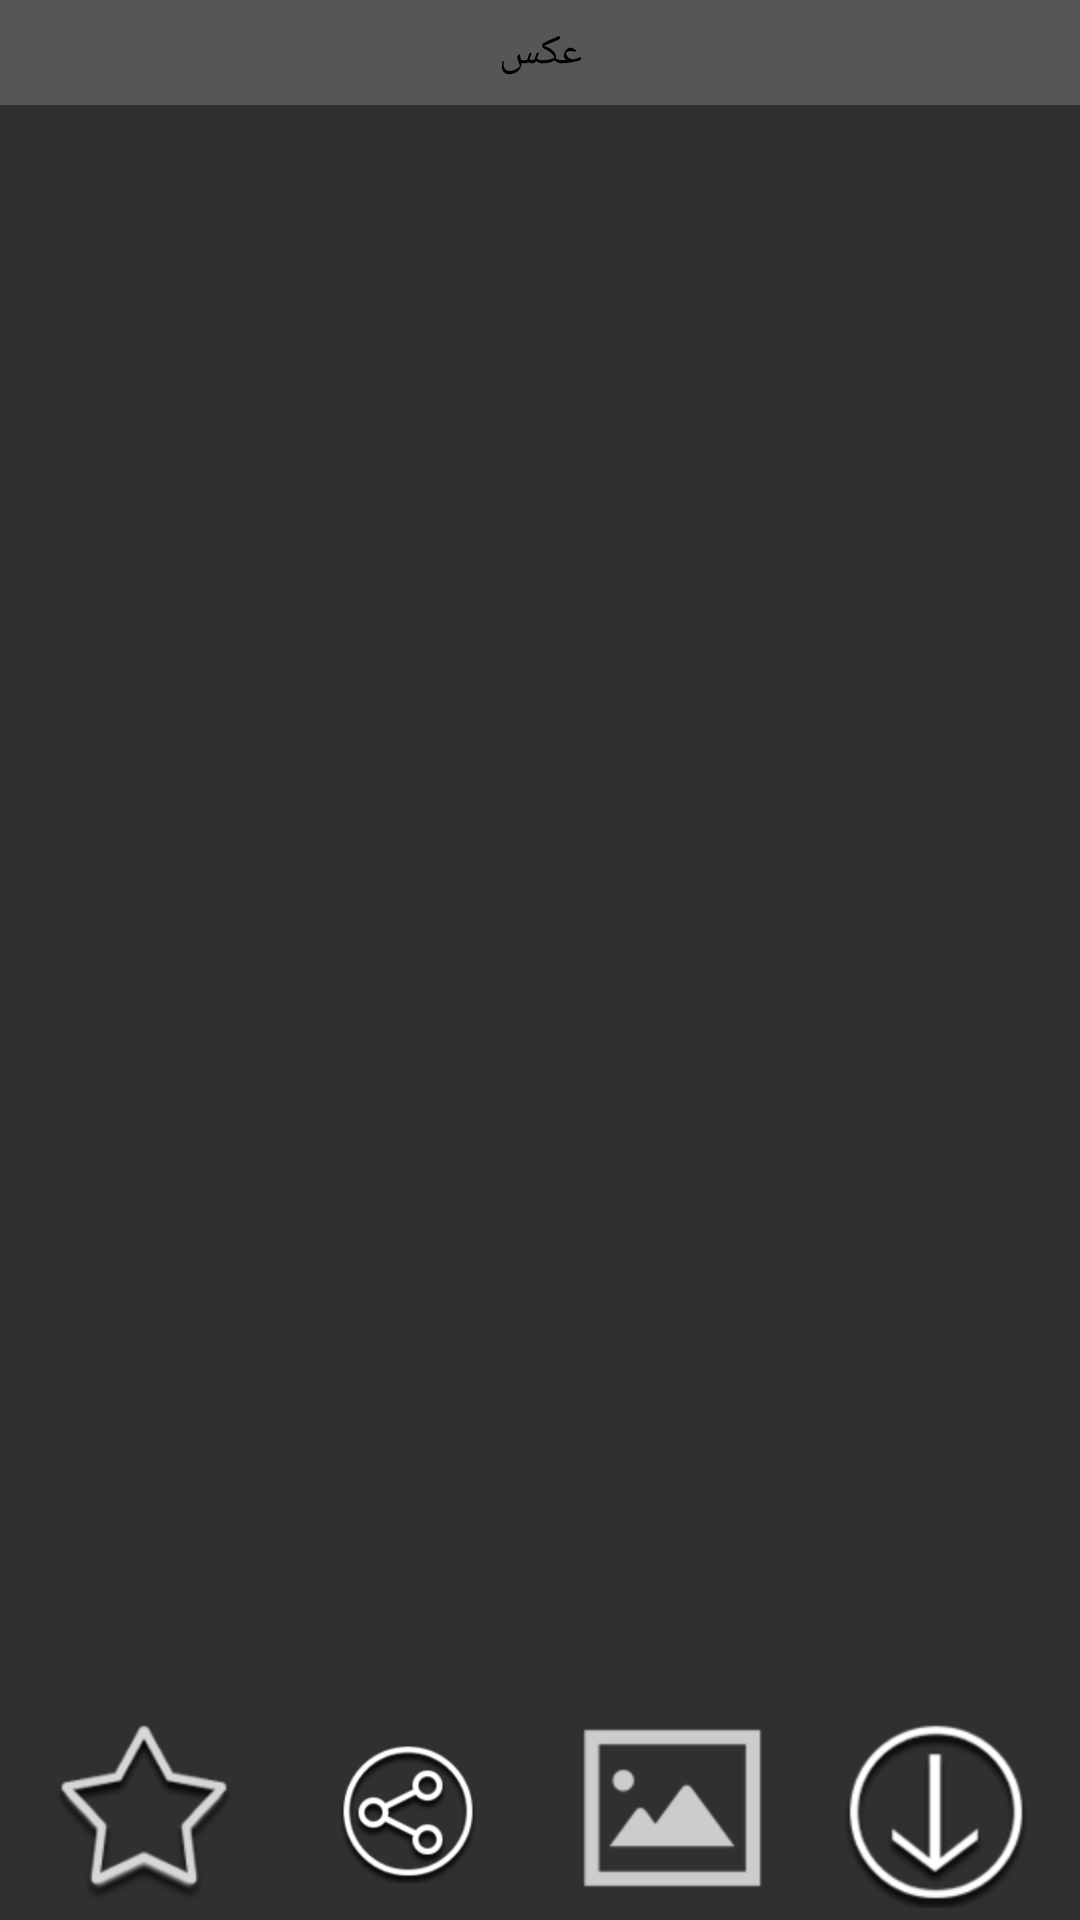

Screen size 1080w x 1920h. Icon name, then its box in pixels as [left=x1, top=y1, right=x2, bottom=y2]:
download: [left=849, top=1725, right=1023, bottom=1906]
like: [left=61, top=1725, right=227, bottom=1892]
share: [left=343, top=1746, right=473, bottom=1881]
